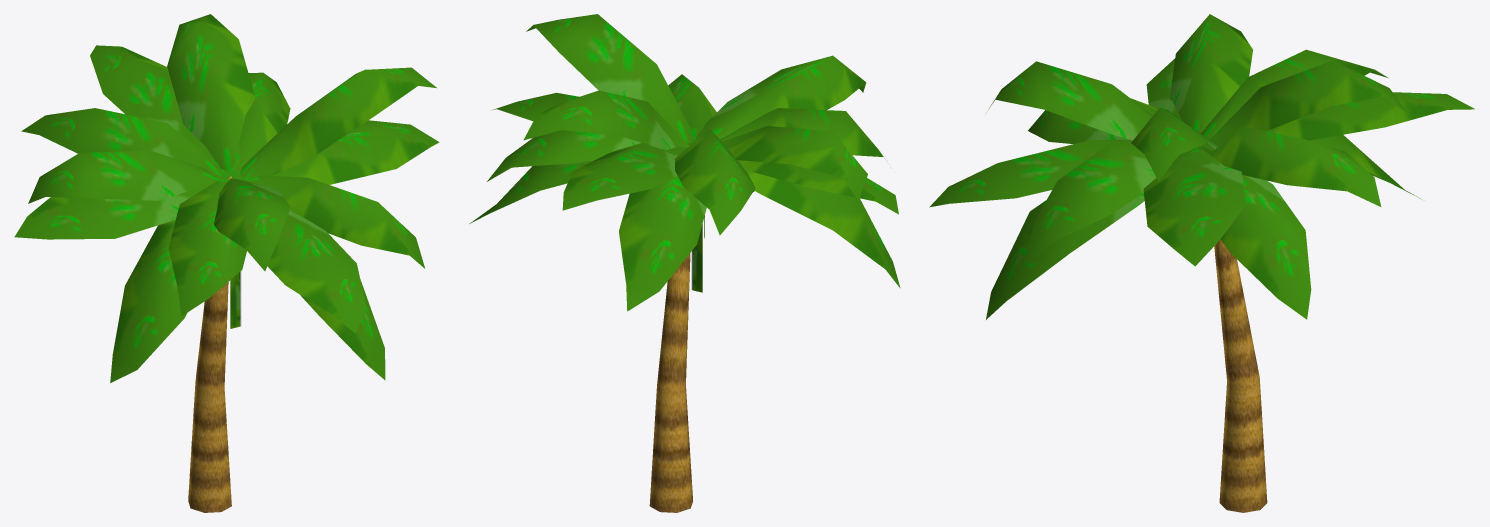
File: lianapalm.obj
The picture shows the model from 3 angles, left to right: view 1: azimuth 30°, elevation 25°; view 2: azimuth 150°, elevation 25°; view 3: azimuth 270°, elevation 25°; orthographic projection. The views are drawn at different scales.
Parts seen in each view (by area): view 1: Duplicate01, Duplicate06, Duplicate05, Duplicate02, Cylinder01, Triangles, Duplicate04, Box01; view 2: Duplicate01, Duplicate02, Duplicate06, Cylinder01, Duplicate05, Triangles, Duplicate04, Box01; view 3: Duplicate01, Duplicate06, Duplicate02, Duplicate05, Cylinder01, Duplicate04, Triangles.
Boxes of the visible parts, x1=… form: Duplicate01: x1=28, y1=14, x2=436, y2=271; Duplicate06: x1=21, y1=72, x2=425, y2=316; Duplicate05: x1=90, y1=45, x2=366, y2=333; Duplicate02: x1=110, y1=220, x2=385, y2=382; Cylinder01: x1=188, y1=176, x2=231, y2=512; Triangles: x1=14, y1=176, x2=229, y2=239; Duplicate04: x1=230, y1=120, x2=439, y2=184; Box01: x1=230, y1=271, x2=241, y2=328; Duplicate01: x1=523, y1=14, x2=867, y2=238; Duplicate02: x1=469, y1=160, x2=900, y2=311; Duplicate06: x1=487, y1=74, x2=886, y2=235; Cylinder01: x1=649, y1=253, x2=692, y2=512; Duplicate05: x1=562, y1=143, x2=687, y2=210; Triangles: x1=739, y1=160, x2=898, y2=214; Duplicate04: x1=493, y1=92, x2=691, y2=145; Box01: x1=691, y1=224, x2=702, y2=292; Duplicate01: x1=988, y1=14, x2=1408, y2=181; Duplicate06: x1=1025, y1=49, x2=1387, y2=265; Duplicate02: x1=986, y1=135, x2=1422, y2=319; Duplicate05: x1=929, y1=92, x2=1474, y2=207; Cylinder01: x1=1214, y1=239, x2=1267, y2=512; Duplicate04: x1=1143, y1=148, x2=1245, y2=266; Triangles: x1=1146, y1=58, x2=1182, y2=120.
Bounding box in the file's own units: 79.04 × 79.32 × 85.79.
